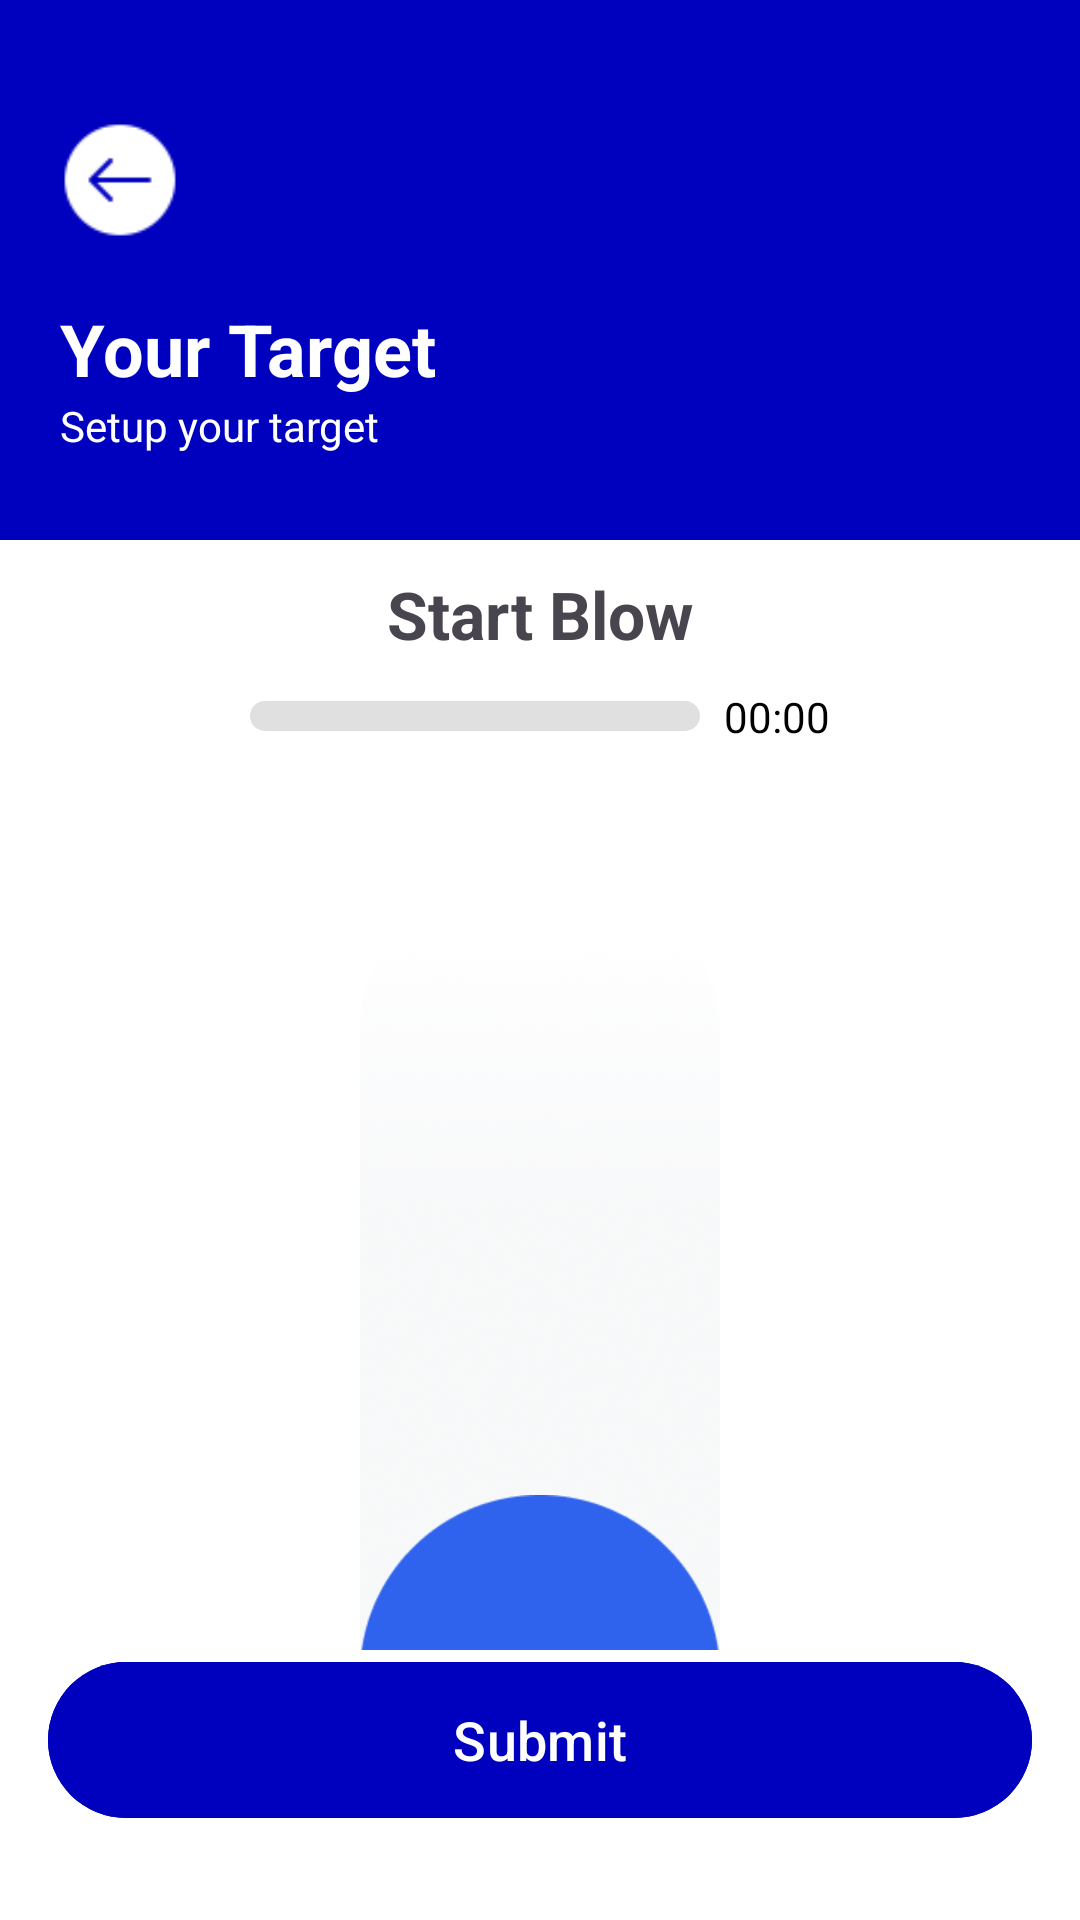

Icon bounding boxes for this 1080w x 1920h phone screenshot, format [left=x1, top=y1, right=x2, bottom=y2]:
arrow left: [left=64, top=124, right=176, bottom=236]
